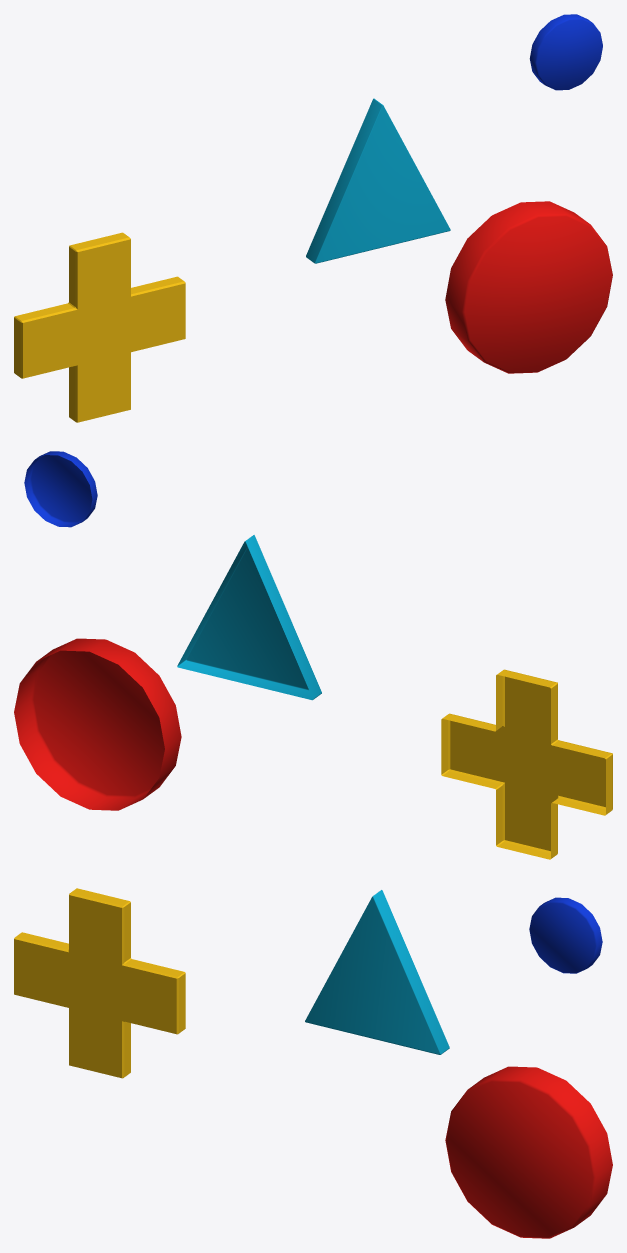
File: Bmo_botones.obj
3 views of the same model, one above another, from view 1: azimuth 30°, elevation 25°; view 2: azimuth 150°, elevation 25°; view 3: azimuth 330°, elevation 25° (orthographic).
Visible parts, largest first — view 1: Bmo_botones; view 2: Bmo_botones; view 3: Bmo_botones.
Part boxes in pixels (<box>): Bmo_botones: <box>14,14,612,422</box>; Bmo_botones: <box>14,451,612,859</box>; Bmo_botones: <box>14,888,612,1238</box>.
Size of the model in its own units: 0.532 by 0.2953 by 0.0278.
